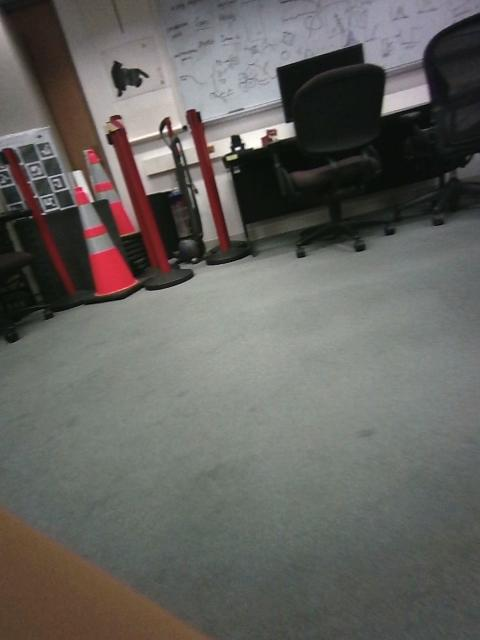block: (376, 258, 441, 296)
